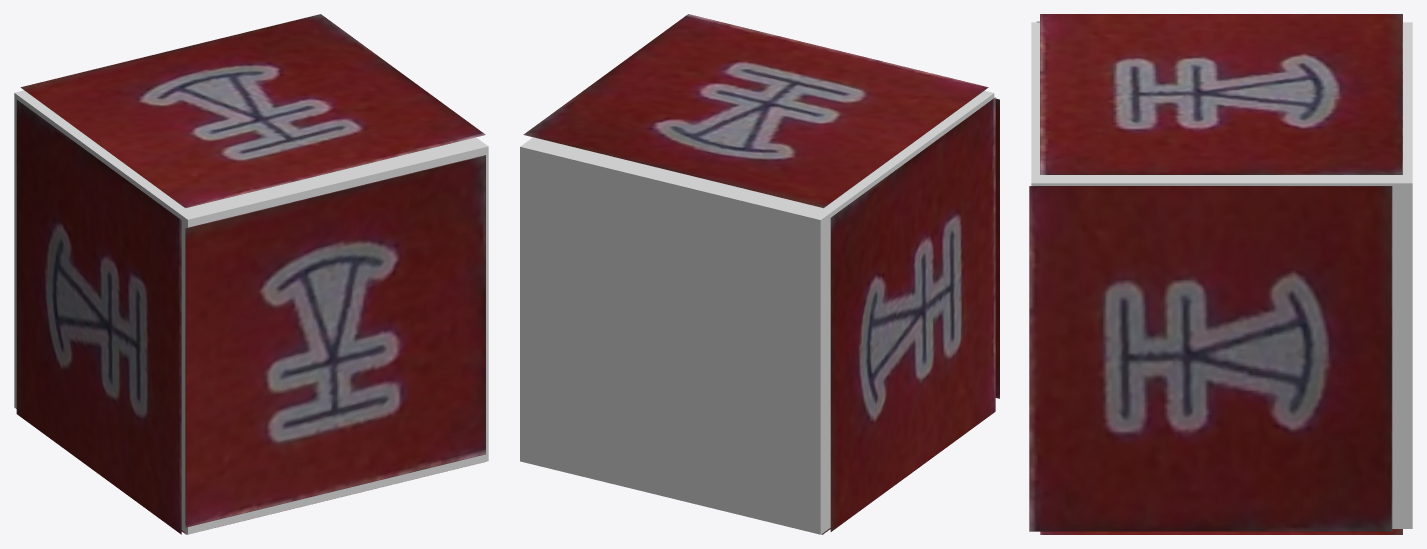
3 renders of one model, left to right at view 1: azimuth 30°, elevation 25°; view 2: azimuth 150°, elevation 25°; view 3: azimuth 270°, elevation 25°, orthographic. The views are drawn at different scales.
Visible parts, largest first — view 1: R2.001, R2.002, R2, Link36; view 2: Link36, R2.002, R2, R2.001; view 3: R2.004, R2, Link36, R2.003.
Part boxes in pixels (<box>): R2.001: <box>185,155,485,527</box>; R2.002: <box>16,100,181,534</box>; R2: <box>20,14,485,208</box>; Link36: <box>14,90,488,534</box>; Link36: <box>520,90,994,534</box>; R2.002: <box>830,97,995,531</box>; R2: <box>523,14,988,208</box>; R2.001: <box>995,98,999,398</box>; R2.004: <box>1029,186,1392,531</box>; R2: <box>1040,14,1402,174</box>; Link36: <box>1031,22,1412,528</box>; R2.003: <box>1040,529,1402,534</box>.
Size of the model in its own units: 0.3578 by 0.3529 by 0.3637.
1 material, 1 textured.
